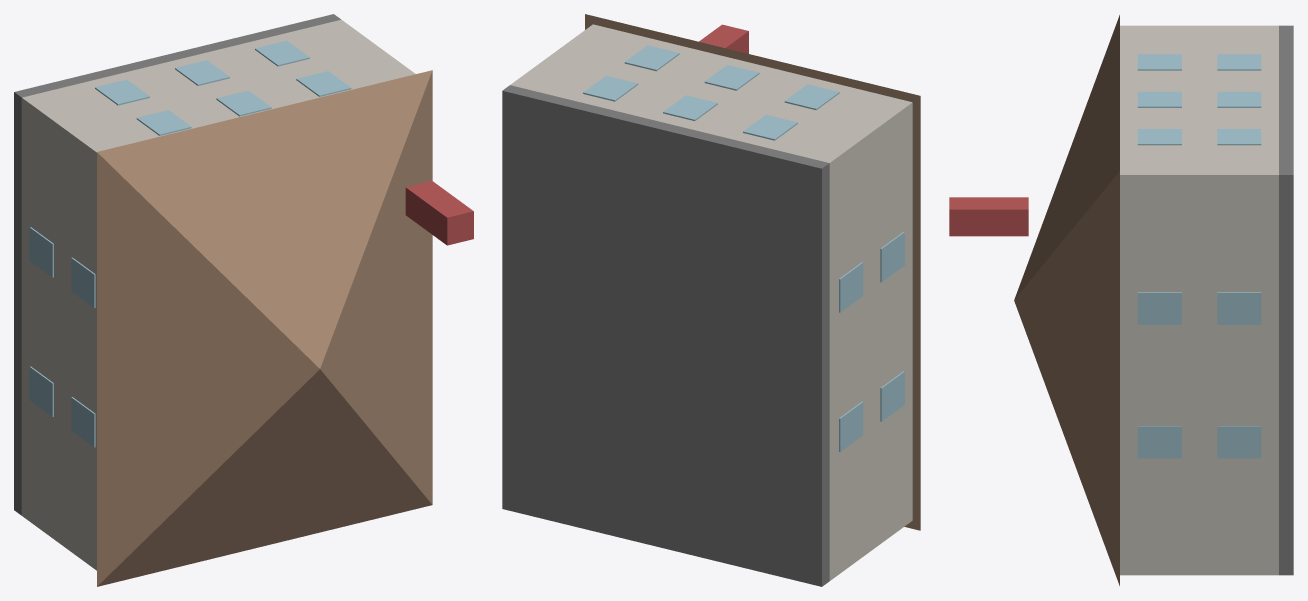
The model's file is test_house_colored.glb.
The picture shows the model from 3 angles, left to right: view 1: azimuth 30°, elevation 25°; view 2: azimuth 150°, elevation 25°; view 3: azimuth 270°, elevation 25°; orthographic projection. The views are drawn at different scales.
Visible parts, largest first — view 1: world; view 2: world; view 3: world.
Part boxes in pixels (x1,y1,x2,y2): world: [14, 14, 473, 586]; world: [502, 14, 920, 586]; world: [949, 15, 1293, 585].
Size of the model in its own units: 12.6 by 15.6 by 11.7.
